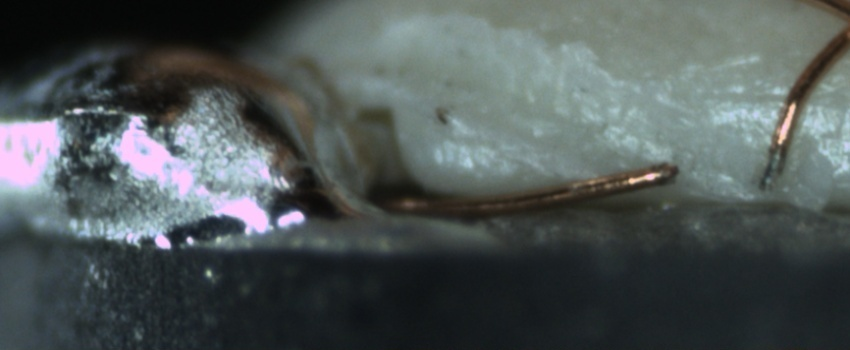DL: (689, 68, 849, 132)
